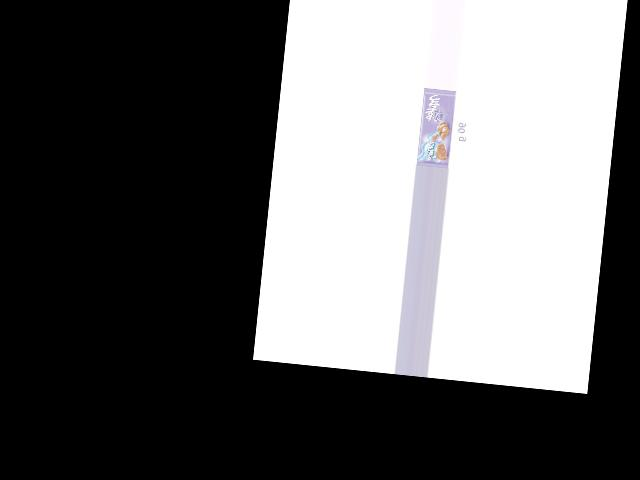chocolate: (416, 89, 455, 169)
